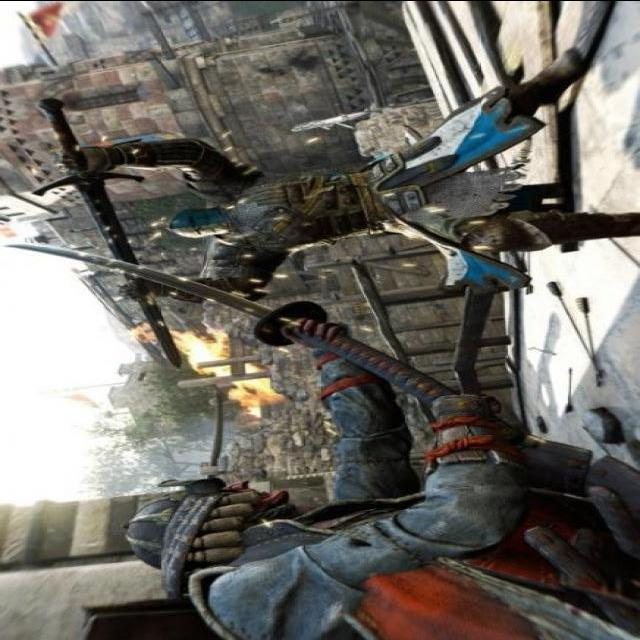katana: (5, 245, 493, 419)
sword: (29, 98, 183, 368)
